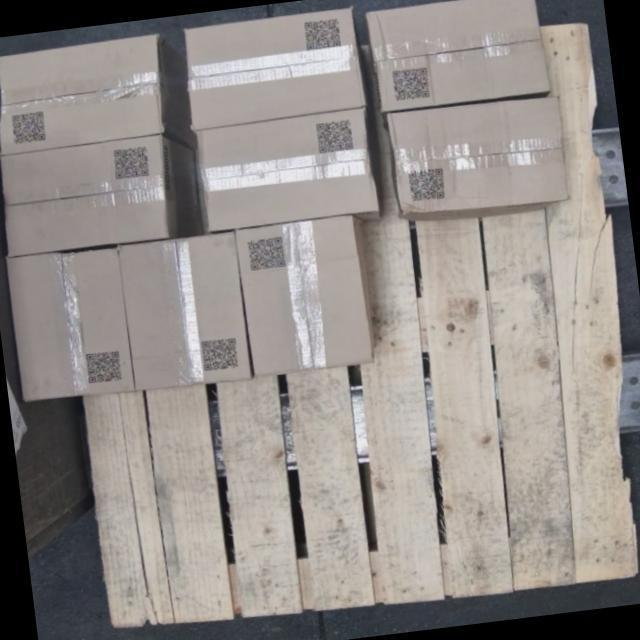box: (387, 95, 569, 219), (180, 8, 366, 129), (236, 215, 373, 378), (196, 110, 378, 232), (117, 232, 253, 393), (365, 0, 551, 116), (0, 133, 173, 256), (0, 36, 170, 156), (7, 248, 135, 405)
